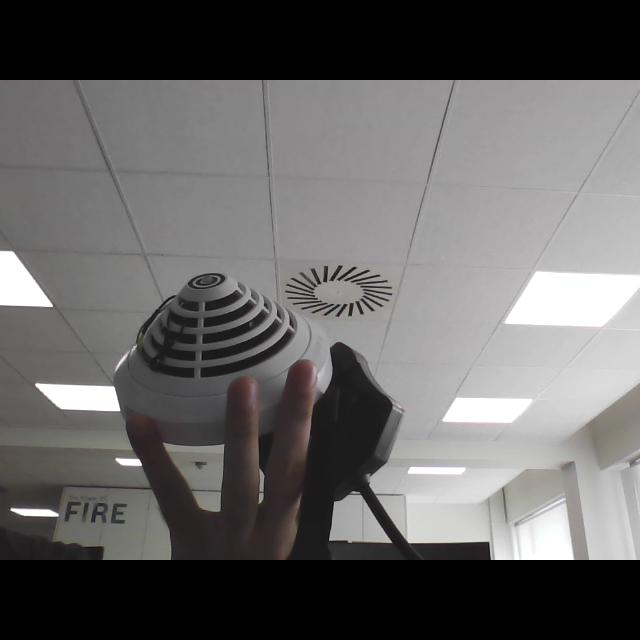Smoke-Detector: (116, 270, 334, 446)
